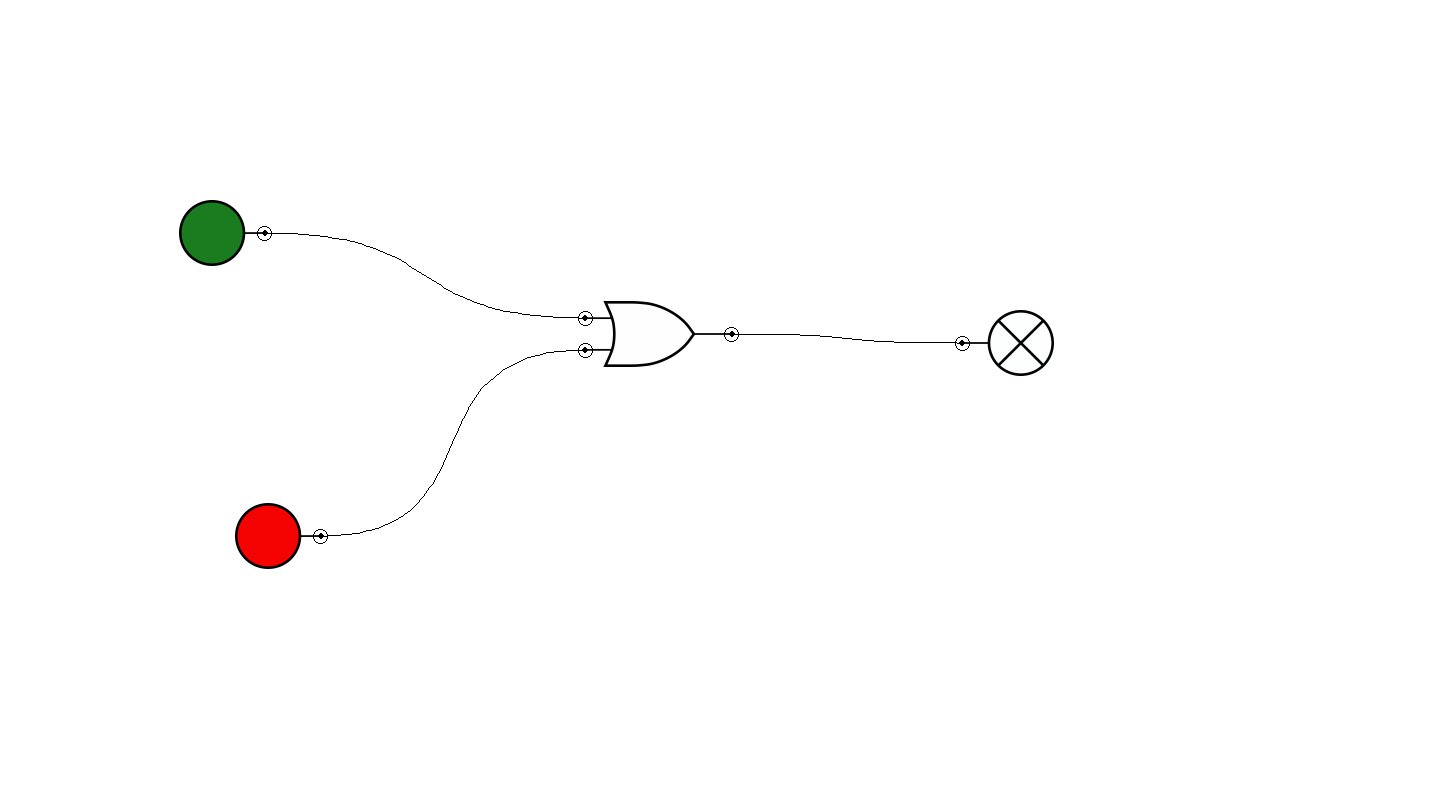bulb: (955, 310, 1054, 376)
or: (578, 301, 739, 367)
switch_False: (235, 503, 328, 569)
switch_True: (179, 200, 272, 266)
